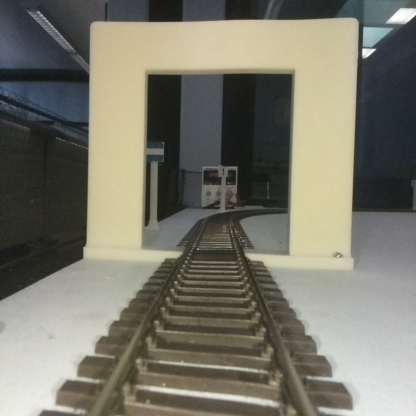start: (145, 142, 163, 230)
white-info-1: (218, 165, 228, 211)
